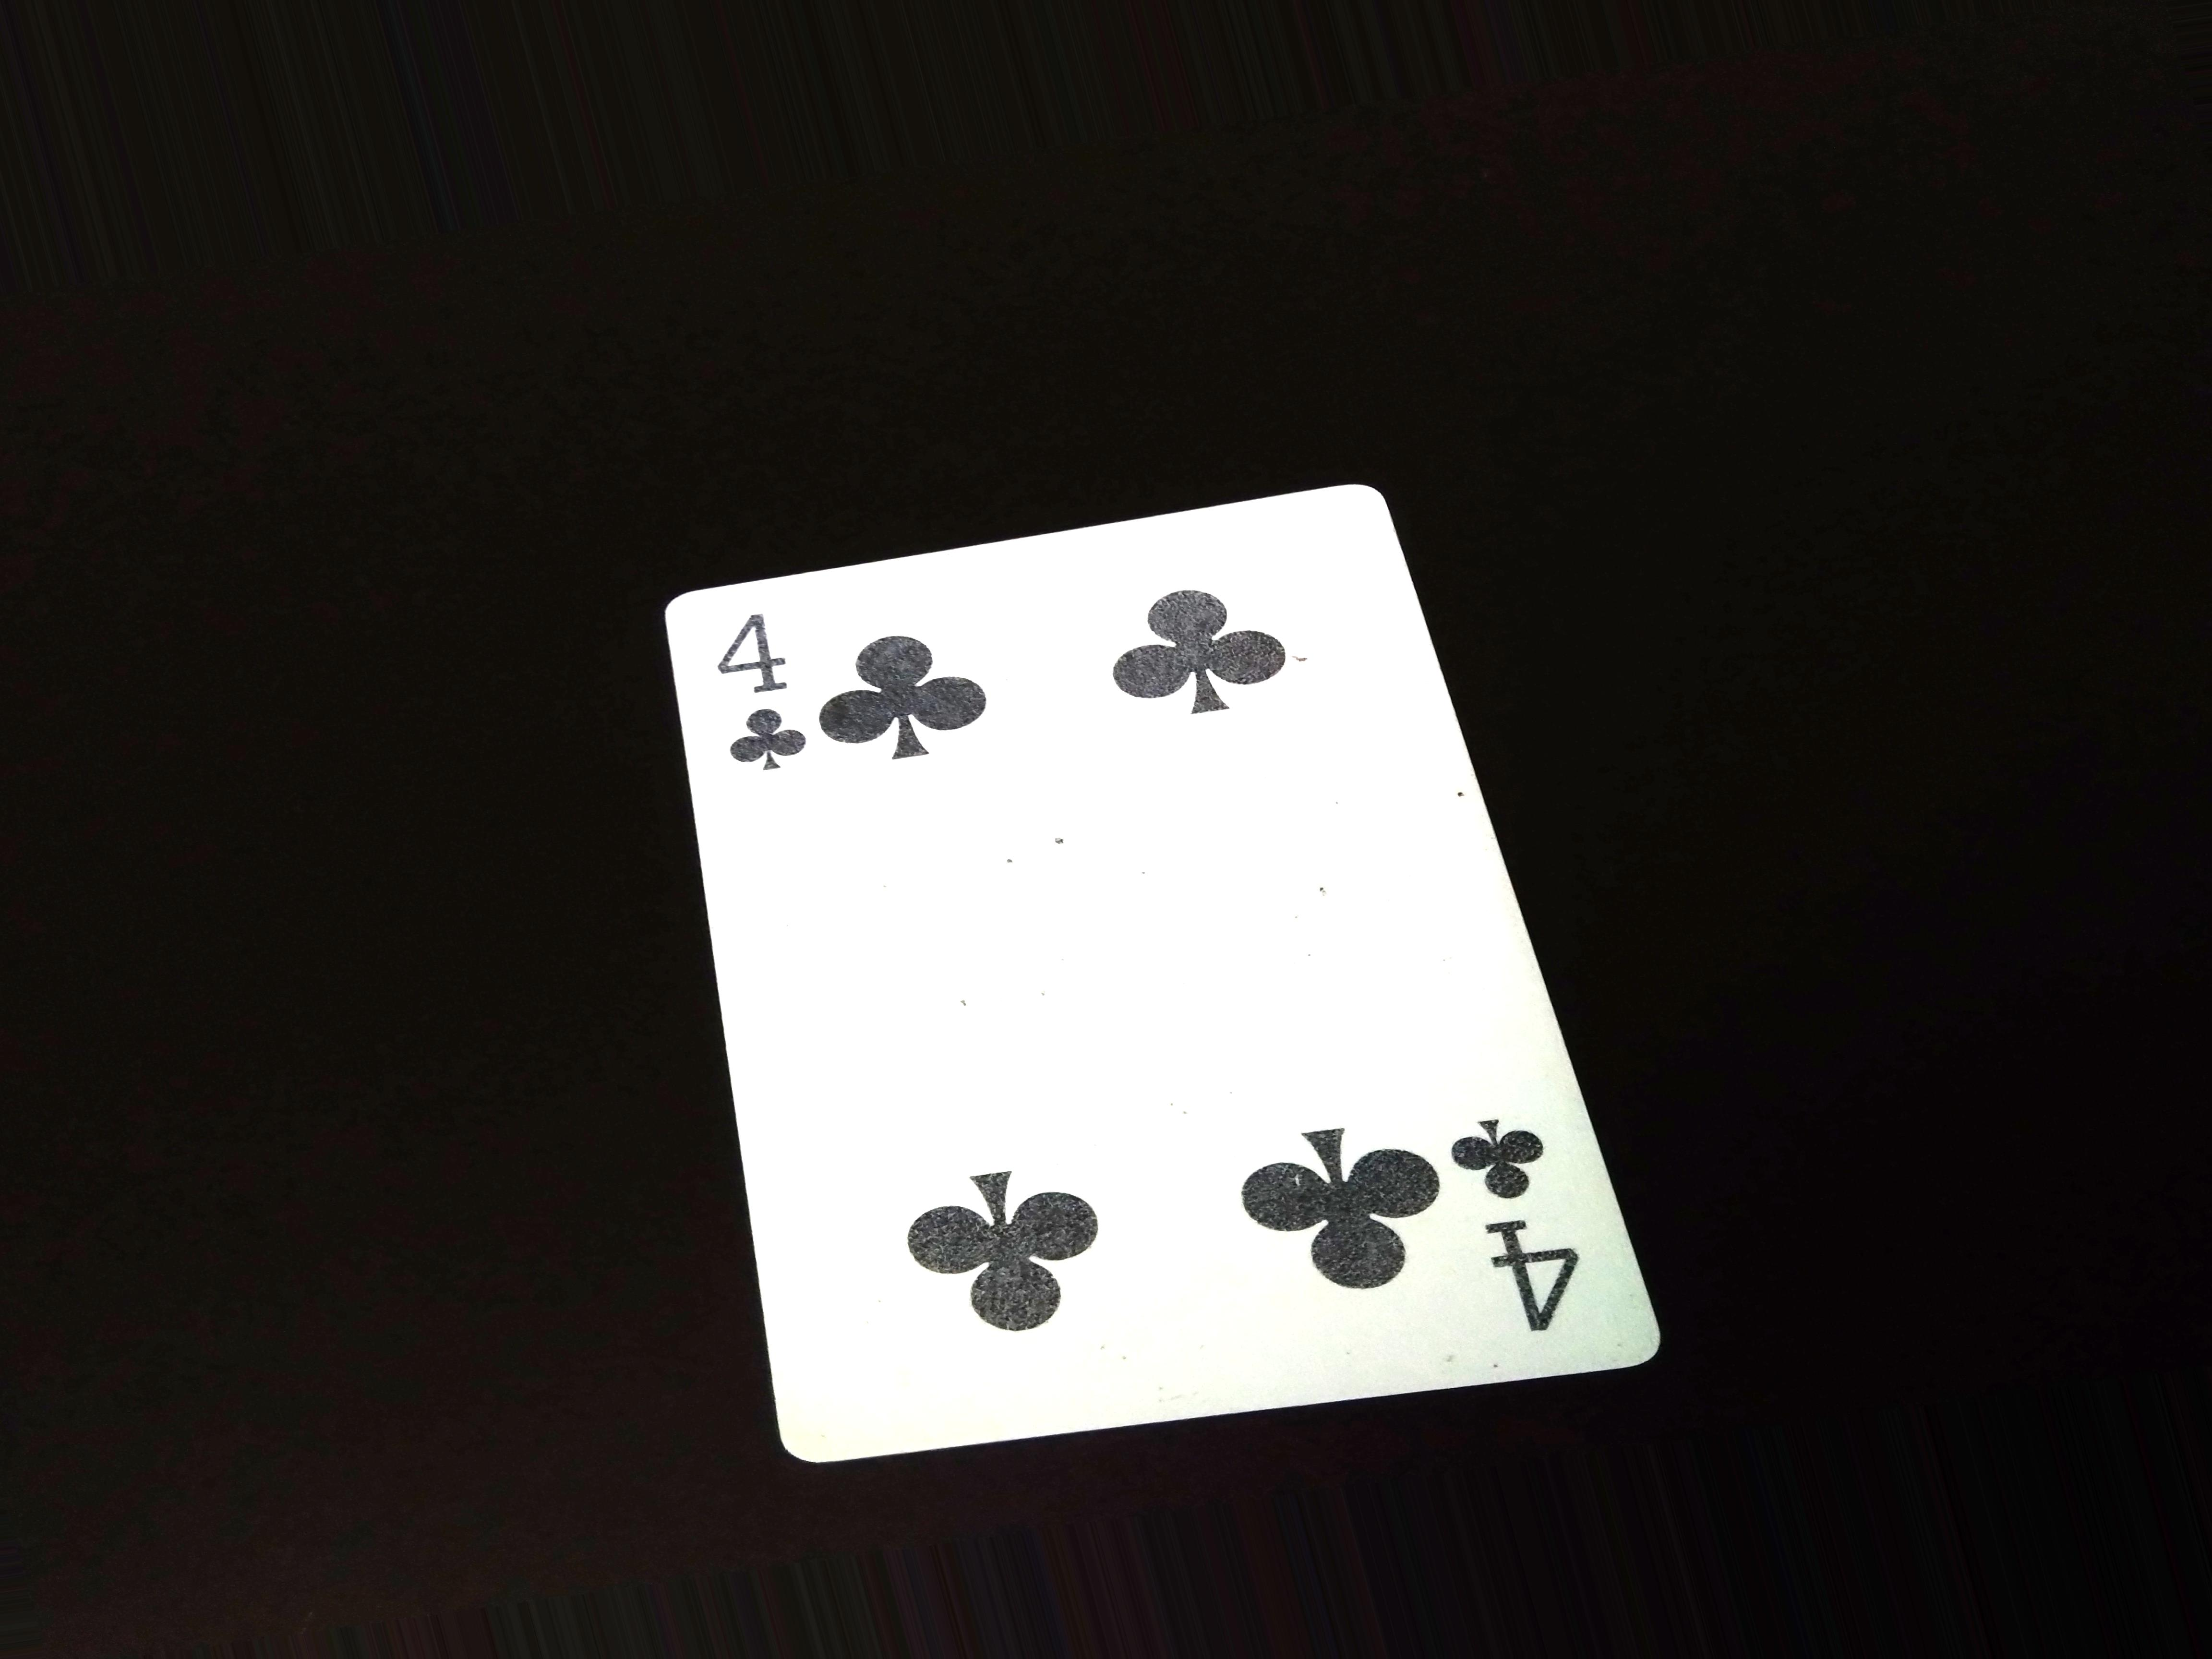4C: (1456, 1100, 1583, 1358)
